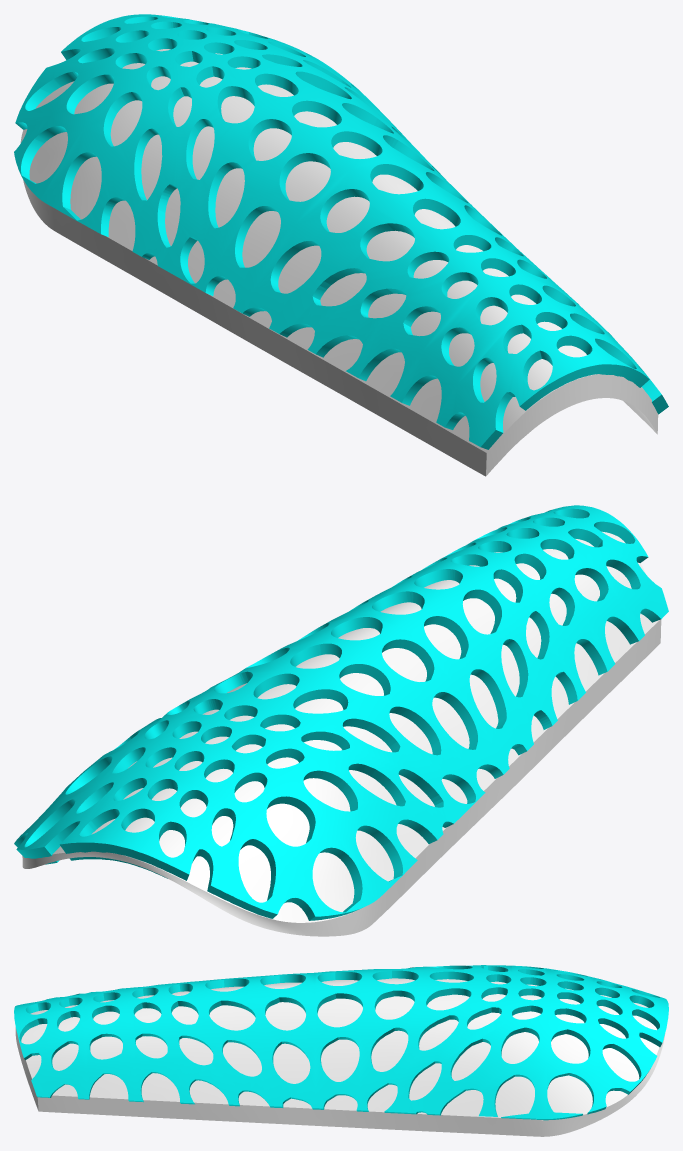
The model's file is tessella-coffin-web.glb.
3 views of the same model, one above another, from view 1: azimuth 30°, elevation 25°; view 2: azimuth 150°, elevation 25°; view 3: azimuth 270°, elevation 25° (orthographic). The views are drawn at different scales.
Parts seen in each view (by area): view 1: MW 1.0 1009172 US, object 1; view 2: MW 1.0 1009172 US, object 1; view 3: MW 1.0 1009172 US, object 1.
Boxes of the visible parts, x1=… form: MW 1.0 1009172 US: x1=14, y1=14, x2=668, y2=449; object 1: x1=20, y1=49, x2=658, y2=476; MW 1.0 1009172 US: x1=14, y1=505, x2=668, y2=920; object 1: x1=22, y1=531, x2=661, y2=936; MW 1.0 1009172 US: x1=14, y1=965, x2=668, y2=1120; object 1: x1=15, y1=978, x2=665, y2=1136.
Bounding box in the file's own units: 0.0144 × 0.00638 × 0.0352.
